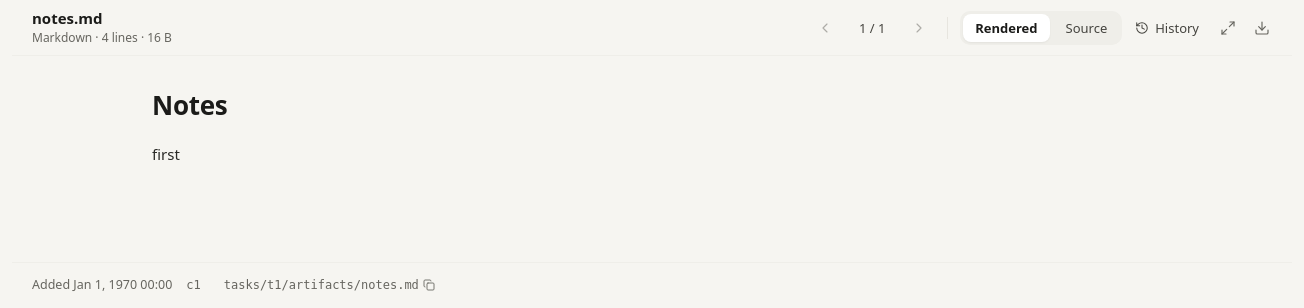
Test: a Markdown file's source, left › with Escape and nothing typed, goes straight back, saving nothing
Click the button "Source" at (1086, 28), box x1=1054 y1=14 x2=1119 y2=42
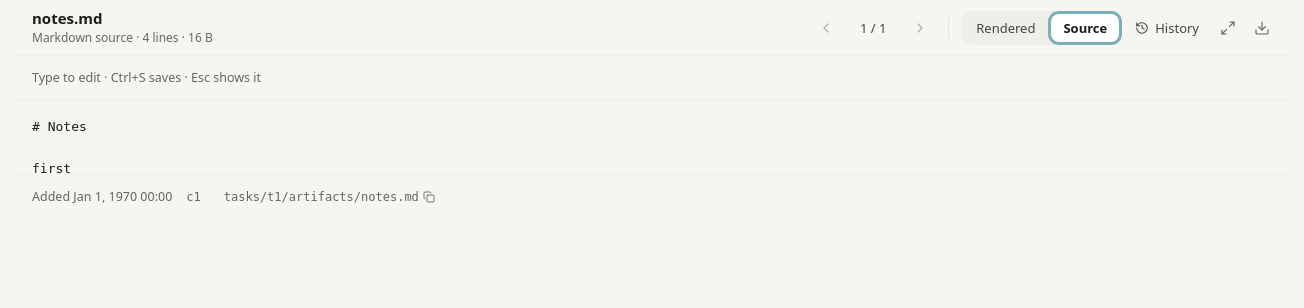
Click the text box named "notes.md" at (652, 137), box x1=12 y1=100 x2=1292 y2=174
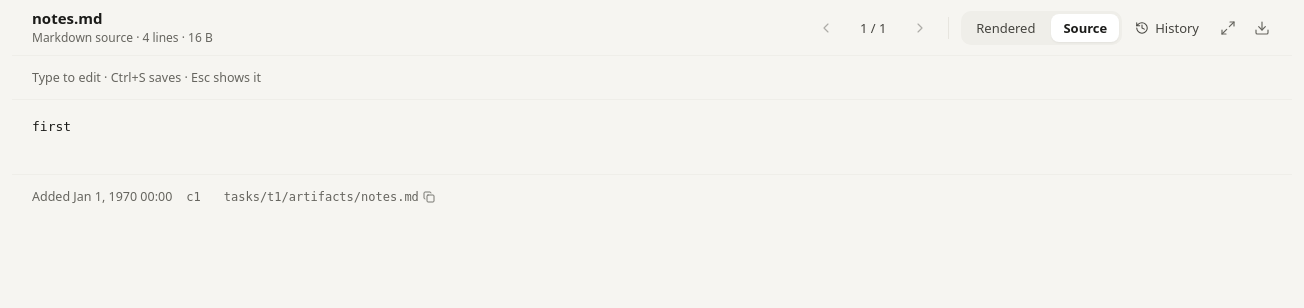
Press Escape
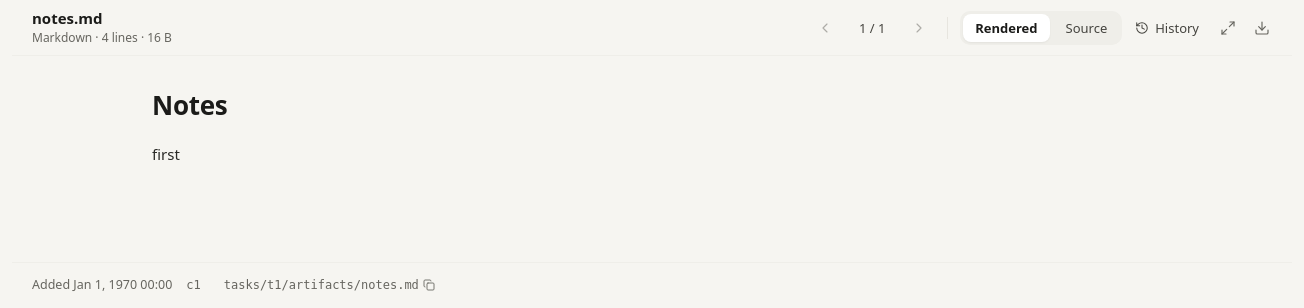
Expected: the heading "Notes" is shown, x1=152 y1=87 x2=228 y2=123
